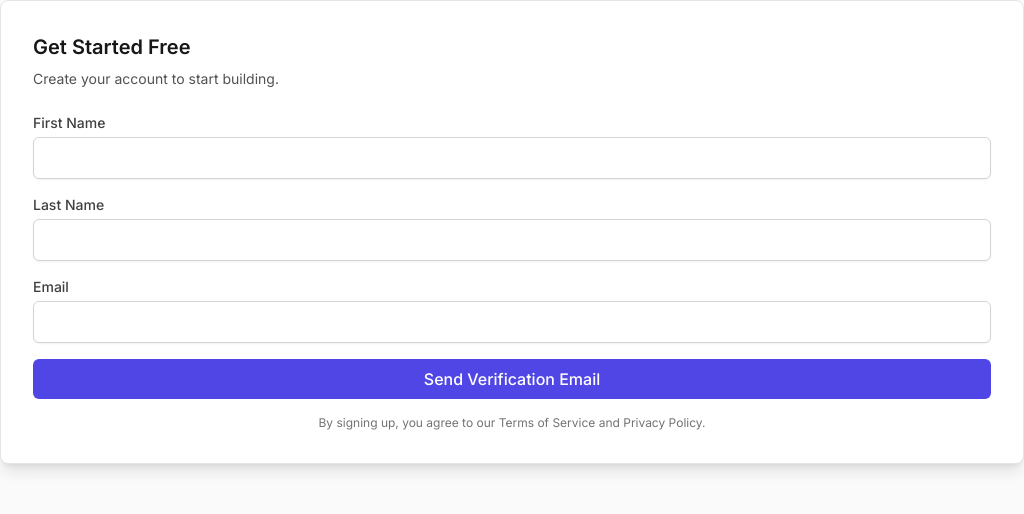
RegistrationFormEmbed › Form Validation › shows error when email format is invalid
Type "John" into the field labelled "First Name" at (512, 158), box [33,137,991,179]
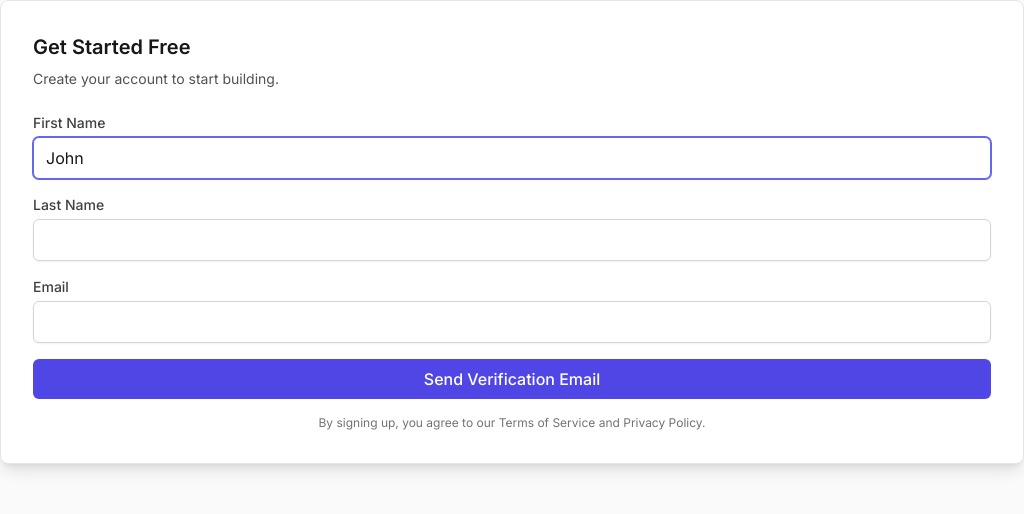
Type "Doe" into the field labelled "Last Name" at (512, 240), box [33,219,991,261]
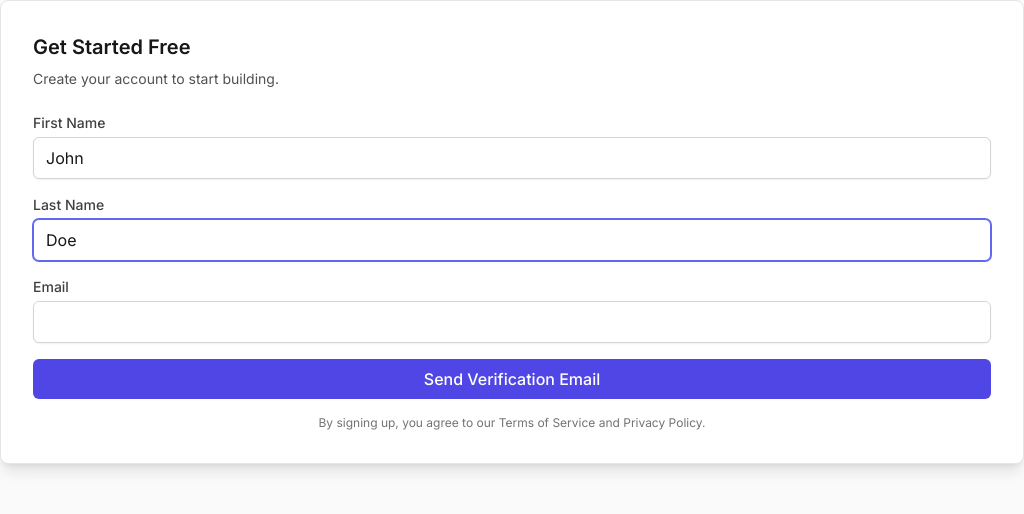
Type "invalid-email" into the field labelled "Email" at (512, 322), box [33,301,991,343]
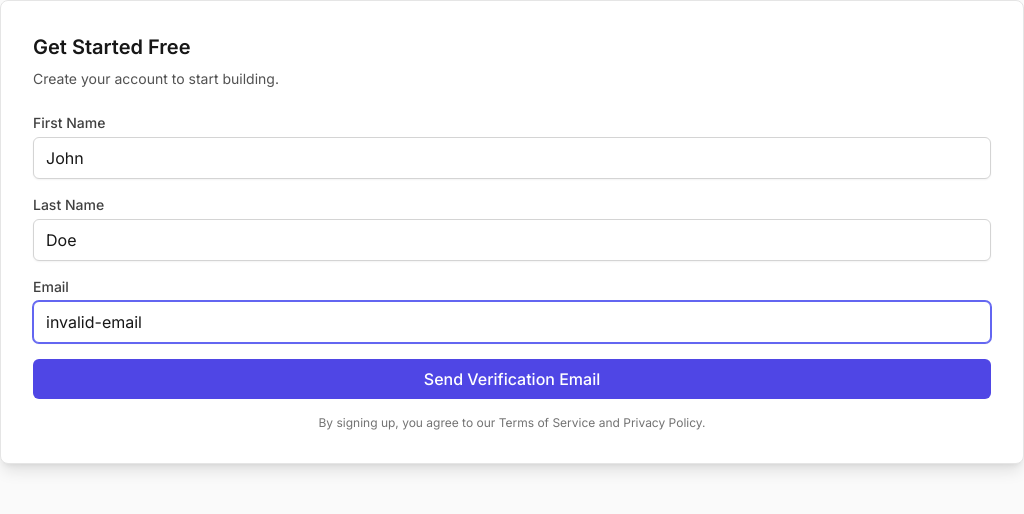
Click the button "Send Verification Email" at (512, 379), box [33,359,991,399]
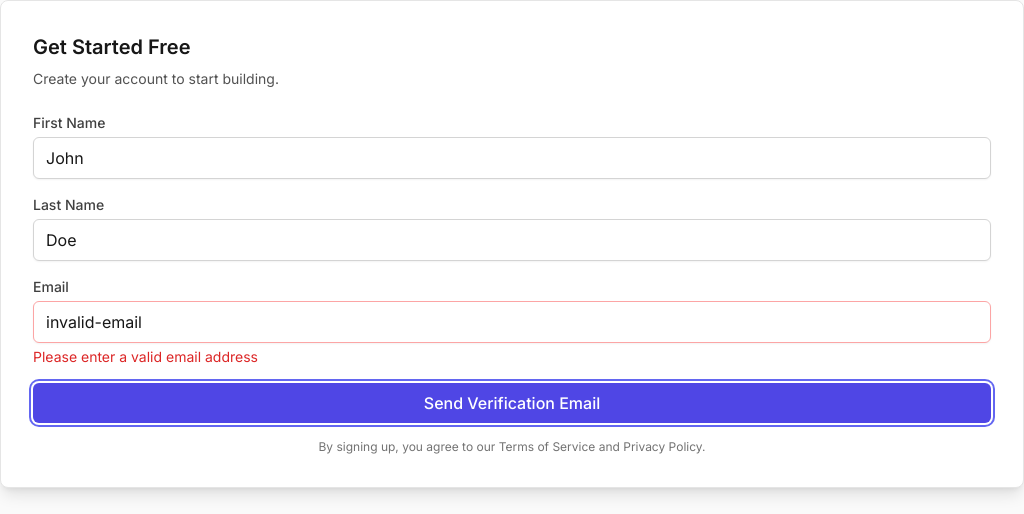
Expected: the text "Please enter a valid email address" is shown, [33,348,258,365]
